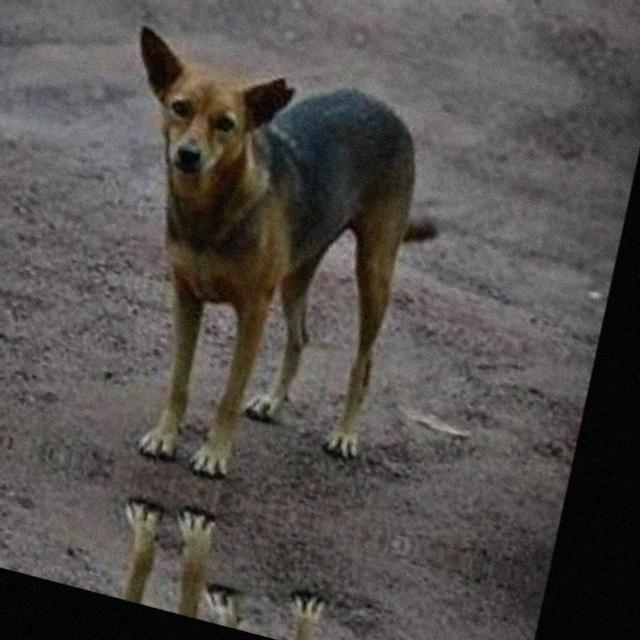dog: (61, 19, 497, 546), (35, 456, 403, 640), (170, 0, 530, 39)
